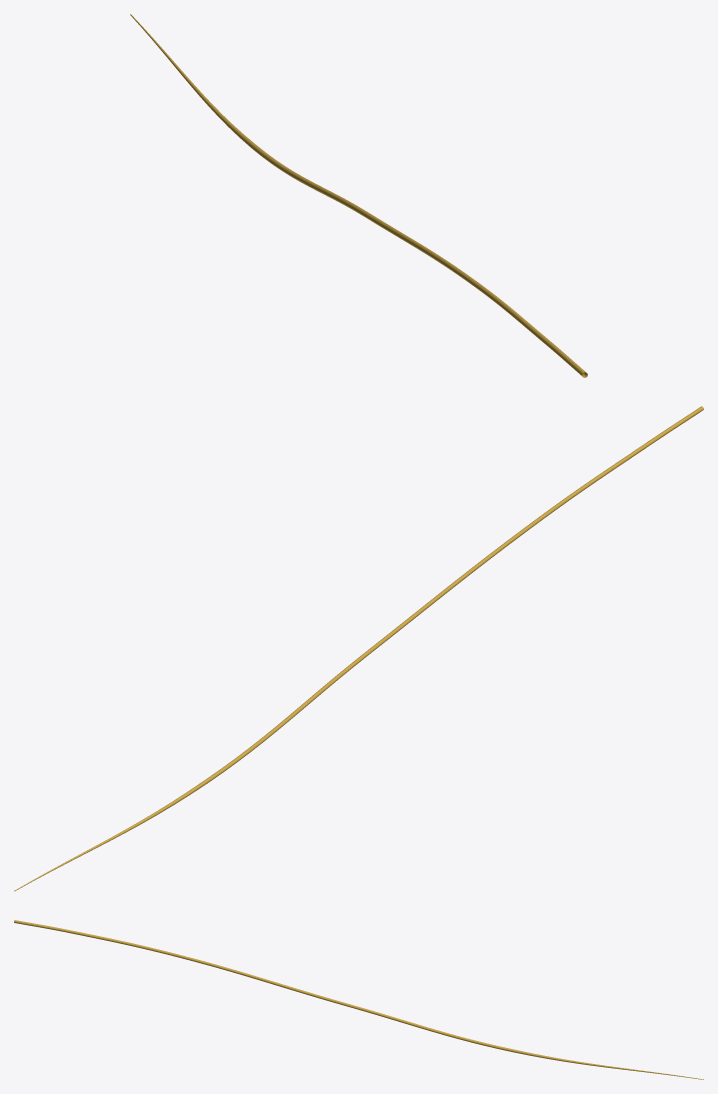
3 views of the same model, one above another, from view 1: azimuth 30°, elevation 25°; view 2: azimuth 150°, elevation 25°; view 3: azimuth 270°, elevation 25° (orthographic). The views are drawn at different scales.
Parts seen in each view (by area): view 1: 左侧前臂内侧皮神经前支; view 2: 左侧前臂内侧皮神经前支; view 3: 左侧前臂内侧皮神经前支.
Boxes of the visible parts, x1,y1,x2,y2 form: 左侧前臂内侧皮神经前支: (130,14,587,377); 左侧前臂内侧皮神经前支: (14,406,703,891); 左侧前臂内侧皮神经前支: (14,920,703,1079).
Bounding box in the file's own units: 0.069 × 0.0567 × 0.3459.
